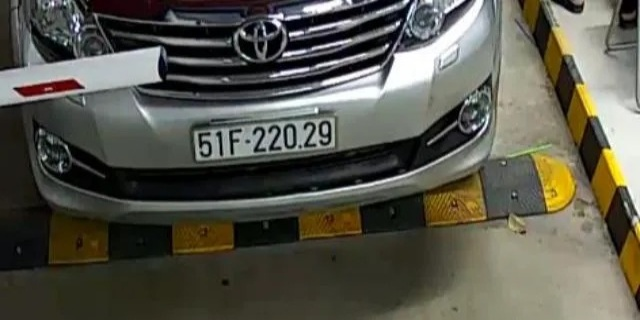bien_so: (193, 122, 338, 156)
